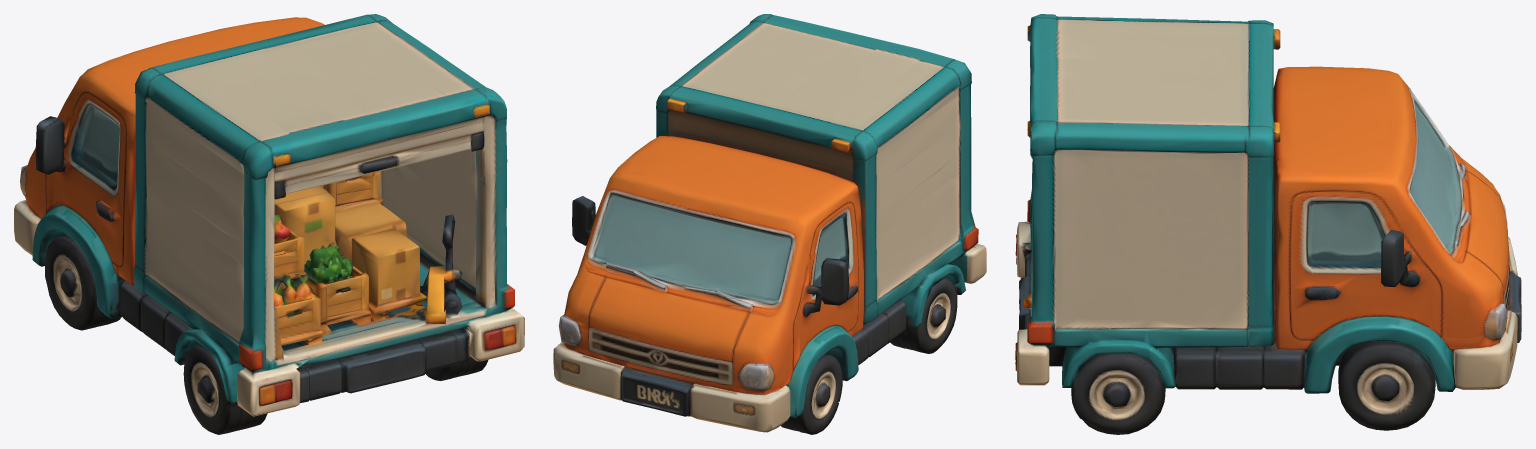
Rendered from DeliveryTruck.glb.
The picture shows the model from 3 angles, left to right: view 1: azimuth 30°, elevation 25°; view 2: azimuth 150°, elevation 25°; view 3: azimuth 270°, elevation 25°; orthographic projection. The views are drawn at different scales.
Visible parts, largest first — view 1: tripo_node_8627f28e-73f5-409a-9128-ca97534084ec; view 2: tripo_node_8627f28e-73f5-409a-9128-ca97534084ec; view 3: tripo_node_8627f28e-73f5-409a-9128-ca97534084ec.
Boxes of the visible parts, box(x1,y1,x2,y2) form: tripo_node_8627f28e-73f5-409a-9128-ca97534084ec: box(14, 14, 524, 434); tripo_node_8627f28e-73f5-409a-9128-ca97534084ec: box(553, 14, 986, 434); tripo_node_8627f28e-73f5-409a-9128-ca97534084ec: box(1015, 14, 1521, 434).
Bounding box in the file's own units: 0.7044 × 0.6434 × 0.97.
1 material, 1 textured.
